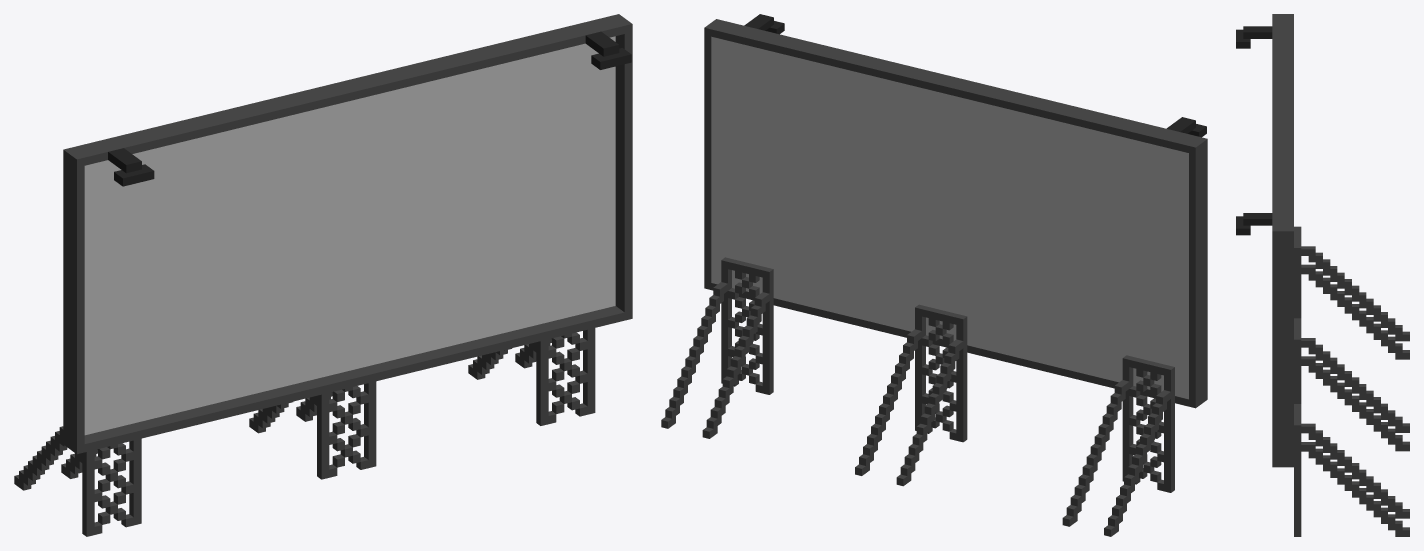
Rendered from Banner big 2.obj.
The picture shows the model from 3 angles, left to right: view 1: azimuth 30°, elevation 25°; view 2: azimuth 150°, elevation 25°; view 3: azimuth 270°, elevation 25°; orthographic projection. The views are drawn at different scales.
Bounding box in the file's own units: 7.1 × 4.8 × 2.4.
1 material, 1 textured.
